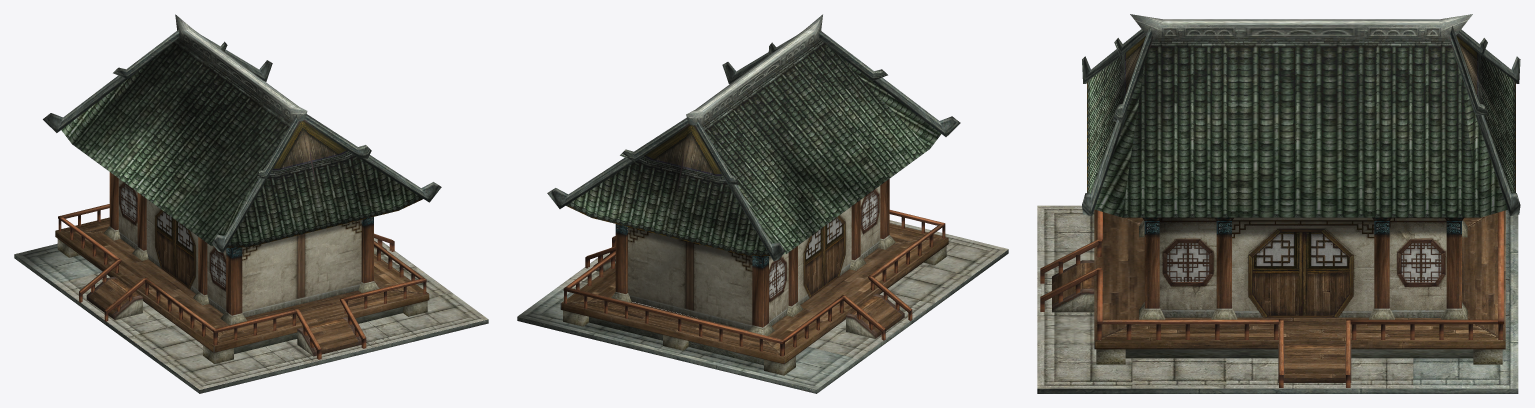
Rendered from c1-008-house5_lod_01.fbx.
3 views of the same model, side by side, from view 1: azimuth 30°, elevation 25°; view 2: azimuth 150°, elevation 25°; view 3: azimuth 270°, elevation 25° (orthographic). The views are drawn at different scales.
Parts seen in each view (by area): view 1: c1-008-house5-1, c1-008-house5-03, c1-008-house5-02; view 2: c1-008-house5-1, c1-008-house5-03, c1-008-house5-02; view 3: c1-008-house5-1, c1-008-house5-03, c1-008-house5-02.
Boxes of the visible parts, bbox=[...] form: c1-008-house5-1: bbox=[14, 14, 488, 393]; c1-008-house5-03: bbox=[55, 172, 488, 389]; c1-008-house5-02: bbox=[118, 179, 361, 317]; c1-008-house5-1: bbox=[517, 14, 1008, 393]; c1-008-house5-03: bbox=[559, 179, 1008, 375]; c1-008-house5-02: bbox=[628, 186, 880, 330]; c1-008-house5-1: bbox=[1037, 14, 1520, 393]; c1-008-house5-03: bbox=[1037, 205, 1505, 388]; c1-008-house5-02: bbox=[1159, 217, 1446, 317].
Bounding box in the file's own units: 14.74 × 10.82 × 16.45.
